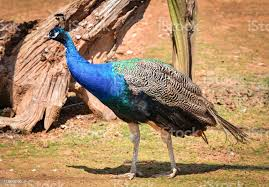Walking: (45, 14, 254, 184)
